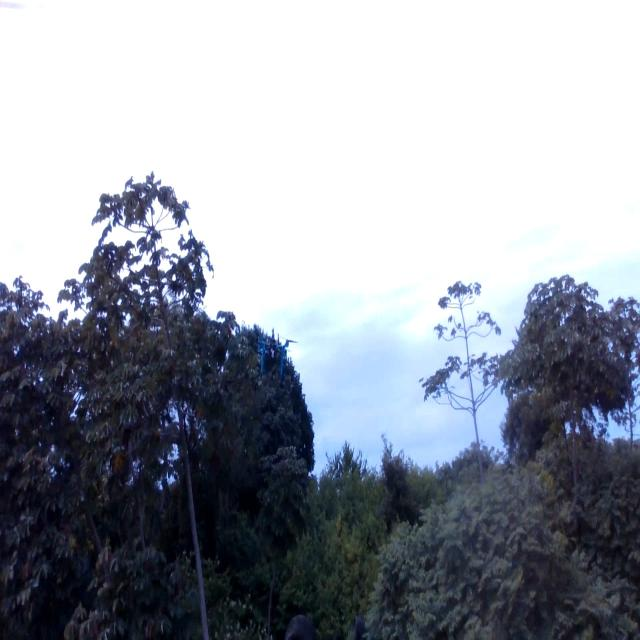-uav-: (253, 321, 301, 409)
